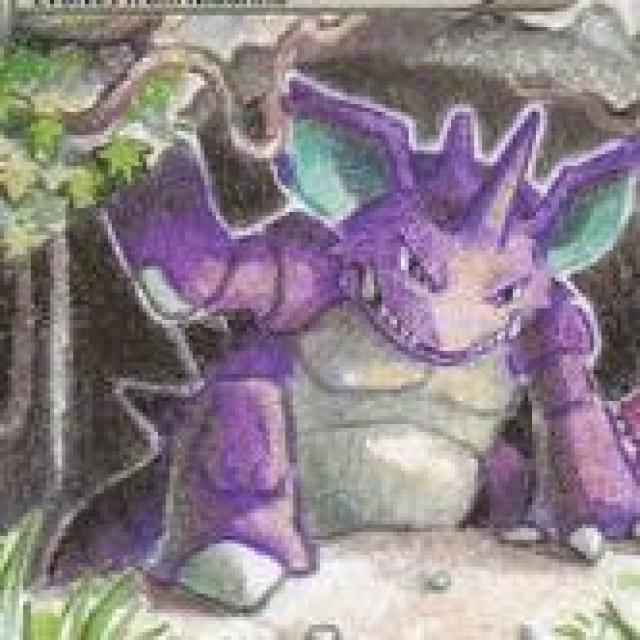Nidoking: (75, 84, 638, 612)
